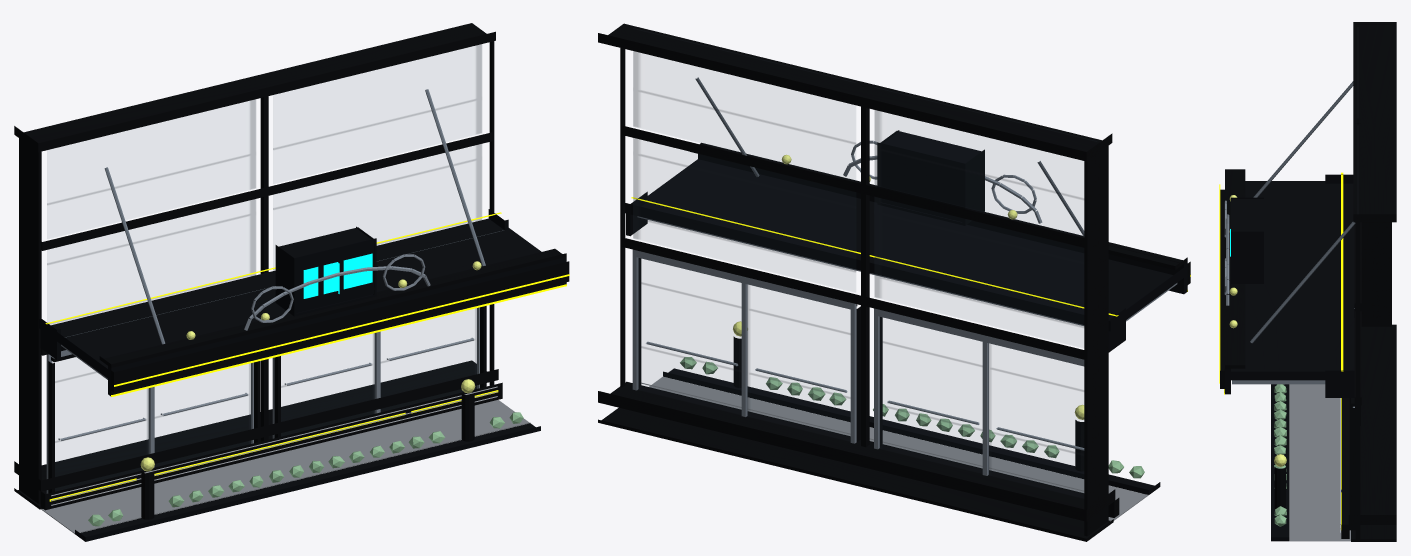
Rendered from v5_rally.glb.
3 views of the same model, side by side, from view 1: azimuth 30°, elevation 25°; view 2: azimuth 150°, elevation 25°; view 3: azimuth 270°, elevation 25° (orthographic). The views are drawn at different scales.
Visible parts, largest first — view 1: Frame, Canopy, Fascia_Gunmetal, Threshold_Mat, Blade_Core, Terrace_Kerb, Fascia_Slate, Court_Line_LED, Hedge_Edge, Net_Kick, Door_Stiles, Score_Cells (+9 smaller); view 2: Frame, Canopy, Door_Stiles, Blade_Core, Threshold_Mat, Terrace_Kerb, Hedge_Edge, Fascia_Slate, Glass_Upper_10, Glass_Upper_00, Fascia_Gunmetal, Glass_Upper_11 (+11 smaller); view 3: Frame, Canopy, Threshold_Mat, Fascia_Gunmetal, Blade_Core, Terrace_Kerb, Tie_Rods, Hedge_Edge, Court_Line_LED, Racket_Arch, Ball_Bollards, Canopy_Soffit.
Boxes of the visible parts, box(x1,y1,x2,y2) form: Frame: box(14, 23, 502, 510); Canopy: box(39, 209, 541, 378); Fascia_Gunmetal: box(99, 248, 569, 392); Threshold_Mat: box(41, 399, 530, 533); Blade_Core: box(275, 226, 376, 316); Terrace_Kerb: box(75, 423, 540, 541); Fascia_Slate: box(108, 257, 566, 396); Court_Line_LED: box(45, 212, 569, 396); Hedge_Edge: box(88, 412, 523, 526); Net_Kick: box(51, 386, 497, 505); Door_Stiles: box(46, 307, 479, 493); Score_Cells: box(303, 253, 372, 298); Frame: box(598, 23, 1119, 541); Canopy: box(625, 159, 1183, 352); Door_Stiles: box(632, 249, 1084, 475); Blade_Core: box(877, 130, 984, 225); Threshold_Mat: box(649, 376, 1148, 520); Terrace_Kerb: box(663, 368, 1160, 494); Hedge_Edge: box(680, 357, 1144, 478); Fascia_Slate: box(698, 154, 1187, 294); Glass_Upper_10: box(633, 138, 855, 272); Glass_Upper_00: box(874, 197, 1083, 328); Fascia_Gunmetal: box(690, 142, 1190, 284); Glass_Upper_11: box(633, 51, 855, 144); Frame: box(1341, 22, 1396, 541); Canopy: box(1230, 174, 1354, 397); Threshold_Mat: box(1290, 384, 1350, 541); Fascia_Gunmetal: box(1220, 169, 1245, 388); Blade_Core: box(1231, 197, 1263, 283); Terrace_Kerb: box(1271, 384, 1289, 541); Tie_Rods: box(1250, 81, 1355, 343); Hedge_Edge: box(1274, 384, 1286, 526); Court_Line_LED: box(1219, 172, 1343, 394); Racket_Arch: box(1224, 200, 1229, 305); Ball_Bollards: box(1274, 467, 1285, 508); Canopy_Soffit: box(1232, 380, 1325, 384).
Size of what is drawn, in the model's own units: 8 by 6.1 by 2.99.
Materials: 11 (6 with a texture image).
